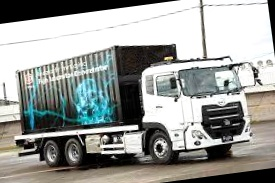truck: (12, 27, 269, 183)
